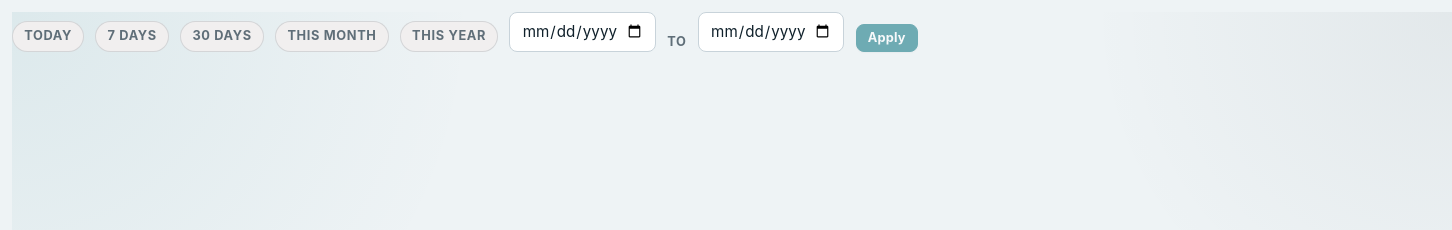
Test: DateRangeFilter Component › shows Clear button after filter is applied
The width and height of the screenshot is (1452, 230).
Click the button "Today" at (48, 36), box [12,21,84,52]
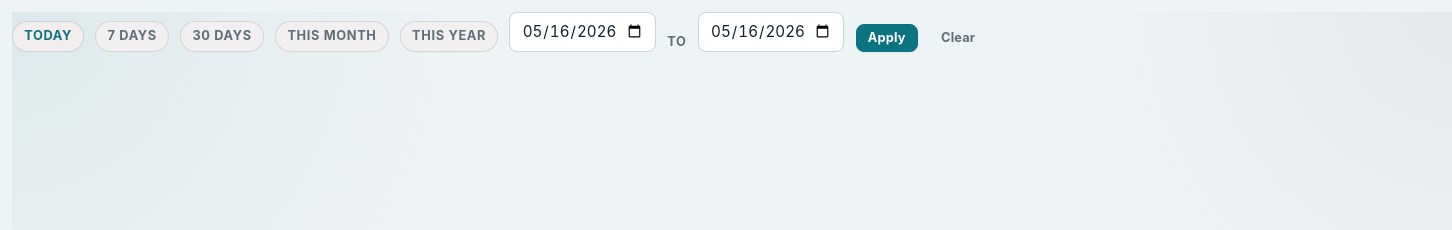
Check: the button "Clear" is shown, box [929,24,987,52]
